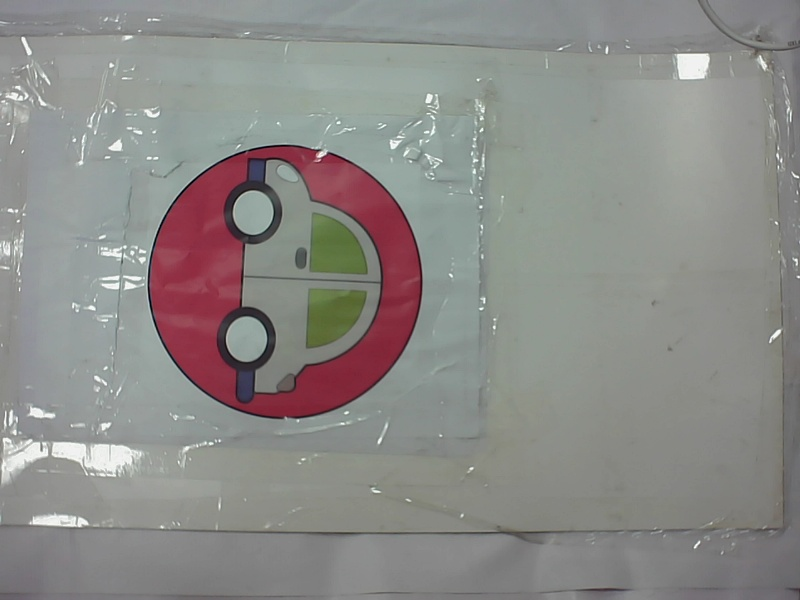areaC: (128, 134, 437, 430)
